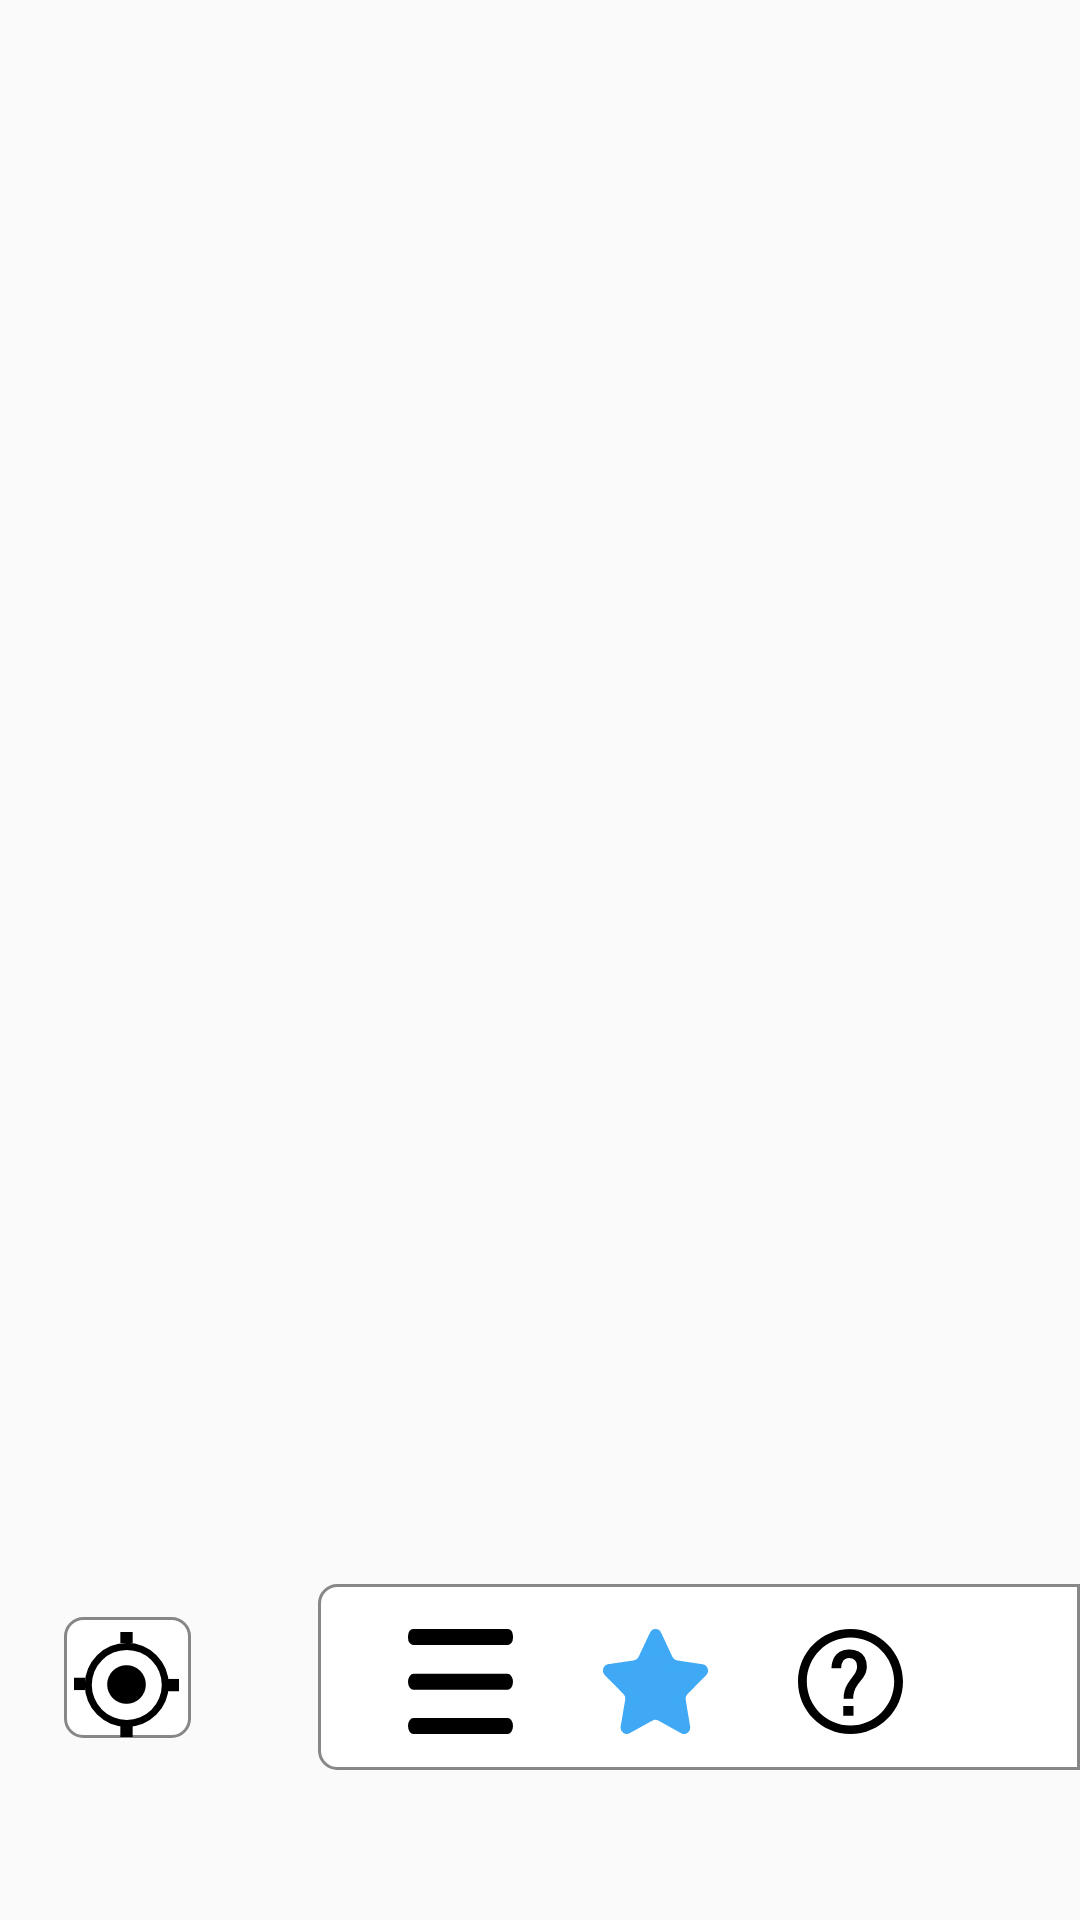

Where icons sit on this 1080px x 1920px app screen, as [x1, y1, x2, y2]:
help: [798, 1629, 903, 1734]
menu: [408, 1629, 513, 1734]
star: [603, 1629, 708, 1734]
